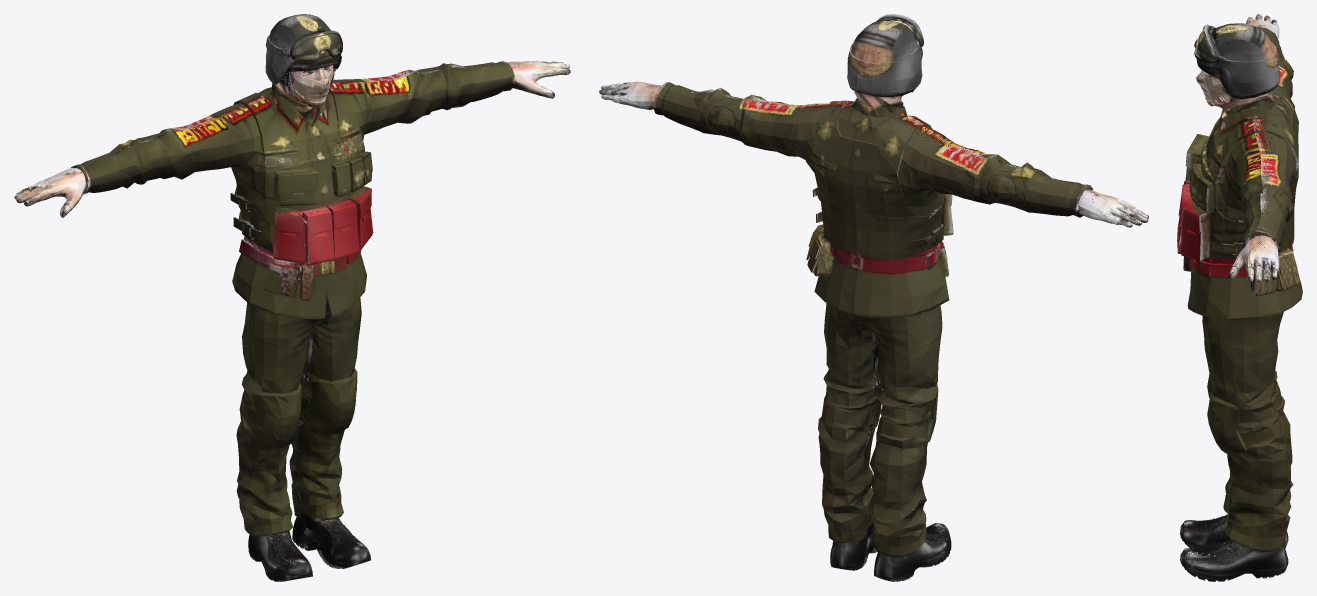
The model's file is textured_error.glb.
3 views of the same model, side by side, from view 1: azimuth 30°, elevation 25°; view 2: azimuth 150°, elevation 25°; view 3: azimuth 270°, elevation 25° (orthographic).
Visible parts, largest first — view 1: Node; view 2: Node; view 3: Node.
Part boxes in pixels (<box>): Node: <box>14,14,570,581</box>; Node: <box>599,14,1148,581</box>; Node: <box>1177,14,1302,581</box>.
Size of the model in its own units: 2 by 1.87 by 0.4.
1 material, 1 textured.
